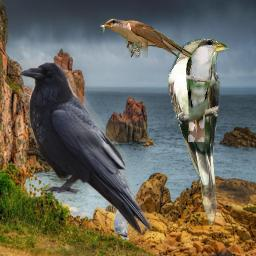Crow: (18, 60, 153, 238)
Cuckoo: (168, 38, 229, 226), (98, 18, 214, 69), (185, 38, 227, 142)
